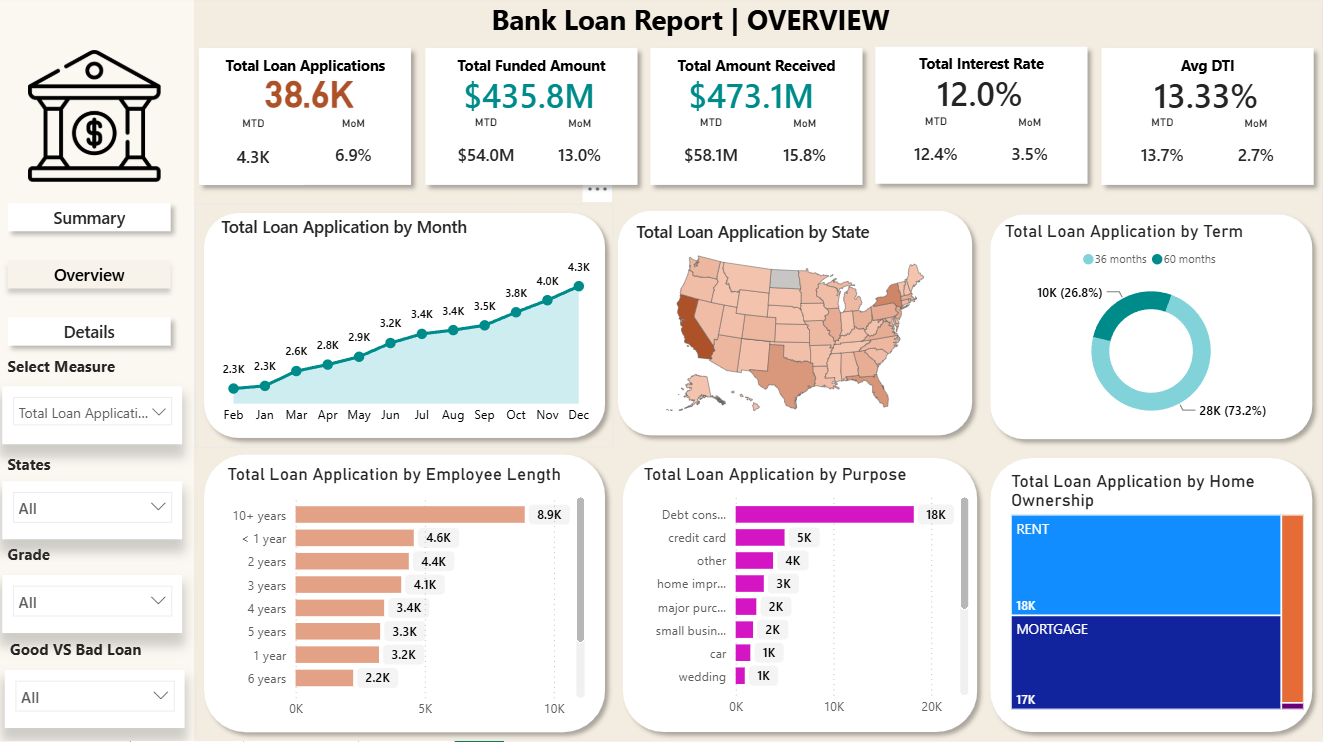

This screenshot's page, from the dashboard's own definition file:
{"tool":"powerbi","page":{"name":"Overview","canvas":[1280,720],"ordinal":1},"visuals":[{"type":"shape","box":[0,0,1088.8,55],"z":0},{"type":"slicer","fields":{"Values":["bank_loan_data.address_state"]},"box":[6.2,468.7,173.8,56.2],"z":0,"group":"g6"},{"type":"shape","box":[840,41.2,222.5,150],"z":1000,"group":"g4"},{"type":"shape","box":[187.5,42.5,222.5,150],"z":1000,"group":"g1"},{"type":"shape","box":[405,42.5,222.5,150],"z":1000,"group":"g2"},{"type":"shape","box":[622.5,42.5,222.5,150],"z":1000,"group":"g3"},{"type":"shape","box":[1057.5,42.5,222.5,150],"z":1000,"group":"g5"},{"type":"shape","box":[191.2,201.2,405,235],"z":1000},{"type":"textbox","box":[6.2,437.5,167.5,35],"z":1000,"group":"g6"},{"type":"shape","box":[0,0,191.2,720],"z":2000},{"type":"textbox","box":[463.3,0,413.8,63.9],"z":3000},{"type":"group","id":"g1","title":"Group 1","box":[187.5,42.5,222.5,150],"z":4000},{"type":"cardVisual","fields":{"Data":["bank_loan_data.Avg Interest Rate"]},"box":[857.2,58.1,186.2,71.2],"z":4000,"group":"g4"},{"type":"cardVisual","fields":{"Data":["bank_loan_data.Total Funded Amount"]},"box":[422.2,59.4,186.2,71.2],"z":4000,"group":"g2"},{"type":"cardVisual","fields":{"Data":["bank_loan_data.Totl Amount Recived"]},"box":[639.7,59.4,186.2,71.2],"z":4000,"group":"g3"},{"type":"cardVisual","fields":{"Data":["bank_loan_data.Avg DTI"]},"box":[1074.7,59.4,186.2,71.2],"z":4000,"group":"g5"},{"type":"cardVisual","fields":{"Data":["bank_loan_data.Total Loan Application"]},"box":[225,60,155,68.8],"z":4000,"group":"g1"},{"type":"group","id":"g2","title":"Group 1","box":[405,42.5,222.5,150],"z":5000},{"type":"textbox","box":[853.3,51.7,196.2,34.8],"z":5000,"group":"g4"},{"type":"textbox","box":[200.8,53,196.2,34.8],"z":5000,"group":"g1"},{"type":"textbox","box":[418.3,53,196.2,34.8],"z":5000,"group":"g2"},{"type":"textbox","box":[635.8,53,196.2,34.8],"z":5000,"group":"g3"},{"type":"textbox","box":[1070.8,53,196.2,34.8],"z":5000,"group":"g5"},{"type":"group","id":"g3","title":"Group 1","box":[622.5,42.5,222.5,150],"z":6000},{"type":"cardVisual","title":"MTD","fields":{"Data":["bank_loan_data.MTD AVG Interest Rate"]},"box":[851.2,114.3,113.8,66.2],"z":6000,"group":"g4"},{"type":"cardVisual","title":"MTD","fields":{"Data":["bank_loan_data.MTD Funded Amount"]},"box":[416.2,115.6,113.8,66.2],"z":6000,"group":"g2"},{"type":"cardVisual","title":"MTD","fields":{"Data":["bank_loan_data.MTD Total Amount Recived"]},"box":[633.7,115.6,113.8,66.2],"z":6000,"group":"g3"},{"type":"cardVisual","title":"MTD","fields":{"Data":["bank_loan_data.MTD Avg DTI"]},"box":[1068.7,115.6,113.8,66.2],"z":6000,"group":"g5"},{"type":"cardVisual","title":"MTD","fields":{"Data":["bank_loan_data.MTD Loan Application"]},"box":[200,117.5,98.8,66.2],"z":6000,"group":"g1"},{"type":"group","id":"g4","title":"Group 1","box":[840,41.2,222.5,150],"z":7000},{"type":"cardVisual","title":"MoM","fields":{"Data":["bank_loan_data.MoM AVG Interest Rate"]},"box":[943.8,116.2,108.8,63.8],"z":7000,"group":"g4"},{"type":"cardVisual","title":"MoM","fields":{"Data":["bank_loan_data.MoM Loan Application"]},"box":[291.3,117.5,108.8,63.8],"z":7000,"group":"g1"},{"type":"cardVisual","title":"MoM","fields":{"Data":["bank_loan_data.MoM Funded Amount"]},"box":[508.8,117.5,108.8,63.8],"z":7000,"group":"g2"},{"type":"cardVisual","title":"MoM","fields":{"Data":["bank_loan_data.MoM Total Amount Recived"]},"box":[726.3,117.5,108.8,63.8],"z":7000,"group":"g3"},{"type":"cardVisual","title":"MoM","fields":{"Data":["bank_loan_data.MoM Avg DTI"]},"box":[1161.3,117.5,108.8,63.8],"z":7000,"group":"g5"},{"type":"group","id":"g5","title":"Group 1","box":[1057.5,42.5,222.5,150],"z":8000},{"type":"slicer","fields":{"Values":["bank_loan_data.grade"]},"box":[6.2,560,173.8,56.2],"z":9000},{"type":"textbox","box":[8.8,616.2,167.5,35],"z":10000},{"type":"textbox","box":[6.2,525,167.5,35],"z":11000},{"type":"slicer","fields":{"Values":["bank_loan_data.Good VS Bad Loan"]},"box":[8.8,651.2,173.8,56.2],"z":12000},{"type":"group","id":"g6","title":"Group 2","box":[6.2,437.5,173.8,87.5],"z":13000},{"type":"areaChart","fields":{"Y":["bank_loan_data.Total Loan Application"],"Category":["Date Table.Month"]},"box":[212.5,212.5,367.5,211.2],"z":14000},{"type":"slicer","fields":{"Values":["Select Measure.Select Measure"]},"box":[6.2,377.5,173.8,56.2],"z":15000},{"type":"textbox","box":[6.2,342.5,167.5,35],"z":16000},{"type":"shape","box":[591.2,198.8,360,235],"z":17000},{"type":"shapeMap","fields":{"Value":["bank_loan_data.Total Loan Application"],"Category":["bank_loan_data.address_state"]},"box":[612.5,217.5,317.5,197.5],"z":18000},{"type":"shape","box":[951.2,202.5,328.8,235],"z":19000},{"type":"donutChart","fields":{"Y":["bank_loan_data.Total Loan Application"],"Category":["bank_loan_data.term"]},"box":[968.8,217.5,292.5,206.2],"z":20000},{"type":"shape","box":[191.2,433.8,405,286.2],"z":21000},{"type":"barChart","fields":{"Y":["bank_loan_data.Total Loan Application"],"Category":["bank_loan_data.emp_length"]},"box":[218.8,452.5,355,255],"z":22000},{"type":"shape","box":[596.2,437.5,360,282.5],"z":23000},{"type":"barChart","fields":{"Y":["bank_loan_data.Total Loan Application"],"Category":["bank_loan_data.purpose"]},"box":[620,452.5,323.8,252.5],"z":24000},{"type":"shape","box":[951.2,437.5,328.8,282.5],"z":25000},{"type":"treemap","fields":{"Values":["bank_loan_data.Total Loan Application"],"Group":["bank_loan_data.home_ownership"]},"box":[975,458.8,292.5,236.2],"z":26000},{"type":"pageNavigator","box":[2.5,191.2,175,155],"z":26001},{"type":"image","box":[17.5,52.5,153.8,127.5],"z":26002}]}

Visuals, with their boxes in screenshot pixels (x1, y1, x2, y2), scaled from the page's 1280x720 canvas onto the 1323x742 screenshot:
shape: region(0, 0, 1125, 57)
slicer - bank_loan_data.address_state: region(6, 483, 186, 541)
shape: region(868, 42, 1098, 197)
shape: region(194, 44, 424, 198)
shape: region(419, 44, 649, 198)
shape: region(643, 44, 873, 198)
shape: region(1093, 44, 1322, 198)
shape: region(198, 207, 616, 450)
textbox: region(6, 451, 180, 487)
shape: region(0, 0, 198, 741)
textbox: region(479, 0, 907, 66)
"Group 1" group: region(194, 44, 424, 198)
cardVisual - bank_loan_data.Avg Interest Rate: region(886, 60, 1078, 133)
cardVisual - bank_loan_data.Total Funded Amount: region(436, 61, 629, 135)
cardVisual - bank_loan_data.Totl Amount Recived: region(661, 61, 854, 135)
cardVisual - bank_loan_data.Avg DTI: region(1111, 61, 1303, 135)
cardVisual - bank_loan_data.Total Loan Application: region(233, 62, 393, 133)
"Group 1" group: region(419, 44, 649, 198)
textbox: region(882, 53, 1085, 89)
textbox: region(208, 55, 410, 90)
textbox: region(432, 55, 635, 90)
textbox: region(657, 55, 860, 90)
textbox: region(1107, 55, 1310, 90)
"Group 1" group: region(643, 44, 873, 198)
"MTD" cardVisual: region(880, 118, 997, 186)
"MTD" cardVisual: region(430, 119, 548, 187)
"MTD" cardVisual: region(655, 119, 773, 187)
"MTD" cardVisual: region(1105, 119, 1222, 187)
"MTD" cardVisual: region(207, 121, 309, 189)
"Group 1" group: region(868, 42, 1098, 197)
"MoM" cardVisual: region(976, 120, 1088, 185)
"MoM" cardVisual: region(301, 121, 414, 187)
"MoM" cardVisual: region(526, 121, 638, 187)
"MoM" cardVisual: region(751, 121, 863, 187)
"MoM" cardVisual: region(1200, 121, 1313, 187)
"Group 1" group: region(1093, 44, 1322, 198)
slicer - bank_loan_data.grade: region(6, 577, 186, 635)
textbox: region(9, 635, 182, 671)
textbox: region(6, 541, 180, 577)
slicer - bank_loan_data.Good VS Bad Loan: region(9, 671, 189, 729)
"Group 2" group: region(6, 451, 186, 541)
areaChart - bank_loan_data.Total Loan Application x Date Table.Month: region(220, 219, 599, 437)
slicer - Select Measure.Select Measure: region(6, 389, 186, 447)
textbox: region(6, 353, 180, 389)
shape: region(611, 205, 983, 447)
shapeMap - bank_loan_data.Total Loan Application x bank_loan_data.address_state: region(633, 224, 961, 428)
shape: region(983, 209, 1322, 451)
donutChart - bank_loan_data.Total Loan Application x bank_loan_data.term: region(1001, 224, 1304, 437)
shape: region(198, 447, 616, 741)
barChart - bank_loan_data.Total Loan Application x bank_loan_data.emp_length: region(226, 466, 593, 729)
shape: region(616, 451, 988, 741)
barChart - bank_loan_data.Total Loan Application x bank_loan_data.purpose: region(641, 466, 976, 727)
shape: region(983, 451, 1322, 741)
treemap - bank_loan_data.Total Loan Application x bank_loan_data.home_ownership: region(1008, 473, 1310, 716)
pageNavigator: region(3, 197, 183, 357)
image: region(18, 54, 177, 185)
